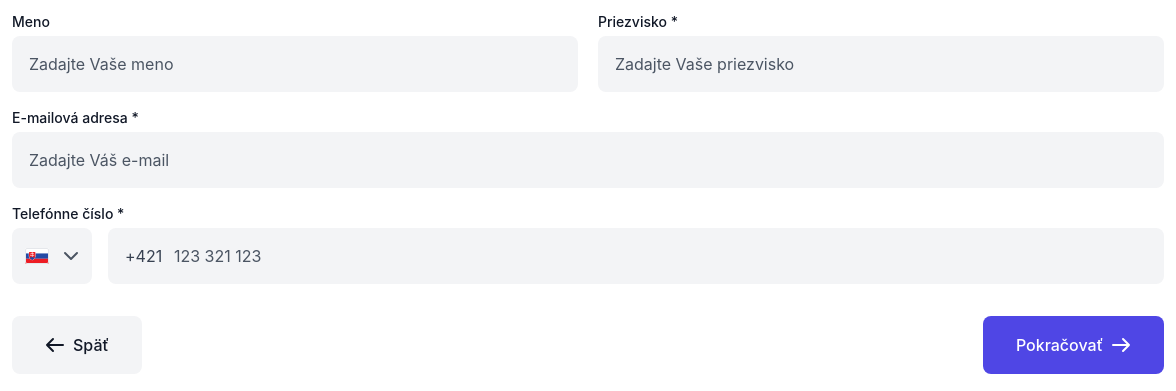
Scenario: DetailsForm › splits a complete number pasted into the dial-code input
Click the field named "Predvoľba telefónneho čísla": click(151, 256) [136,244,166,268]
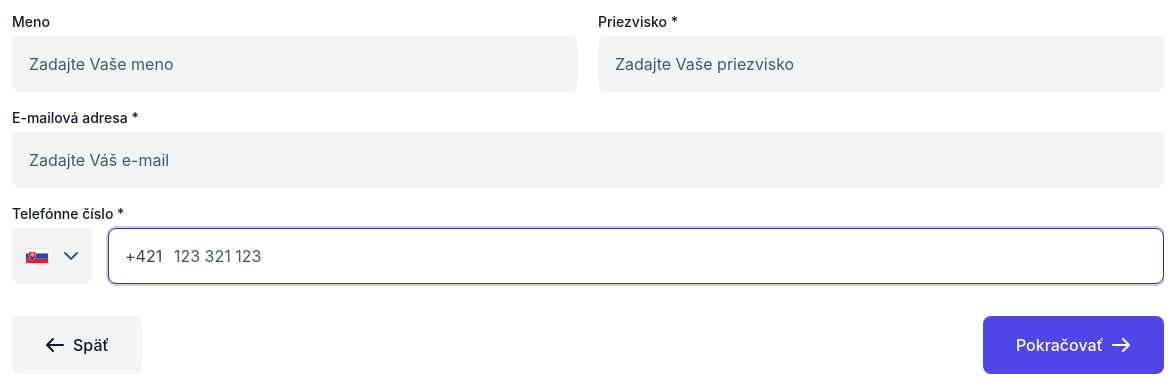
Type keys "+420 777 123 456"
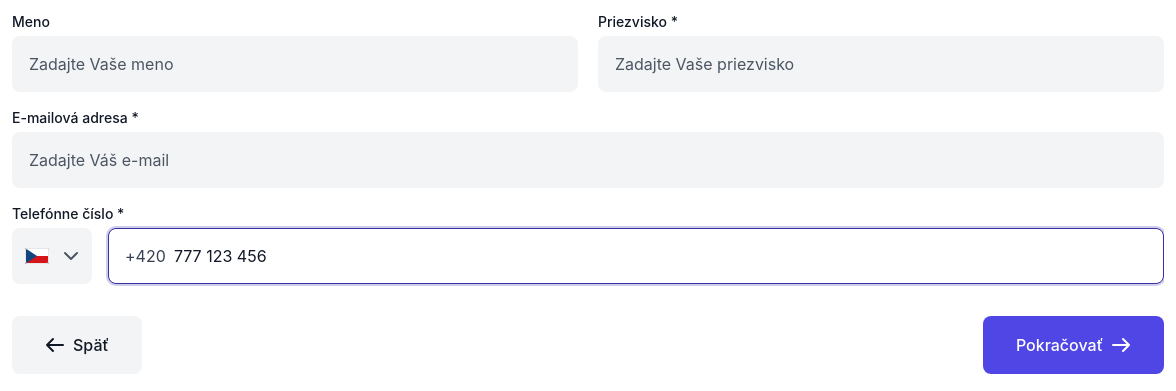
Result: the field named "Predvoľba telefónneho čísla" holds "420" at [136,244,166,268]
Result: the field labelled "Telefónne číslo" holds "777 123 456" at [166,244,1163,268]
